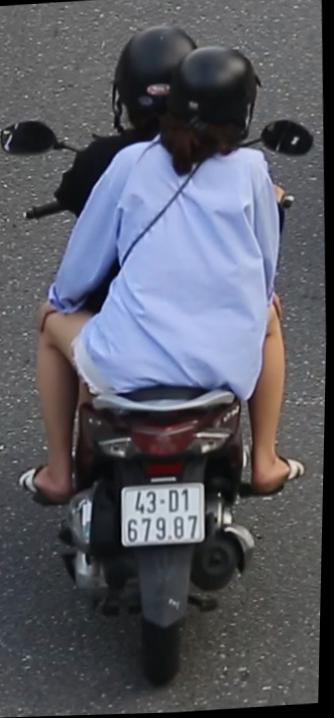LP: (120, 477, 214, 557)
helmet: (108, 19, 202, 136)
